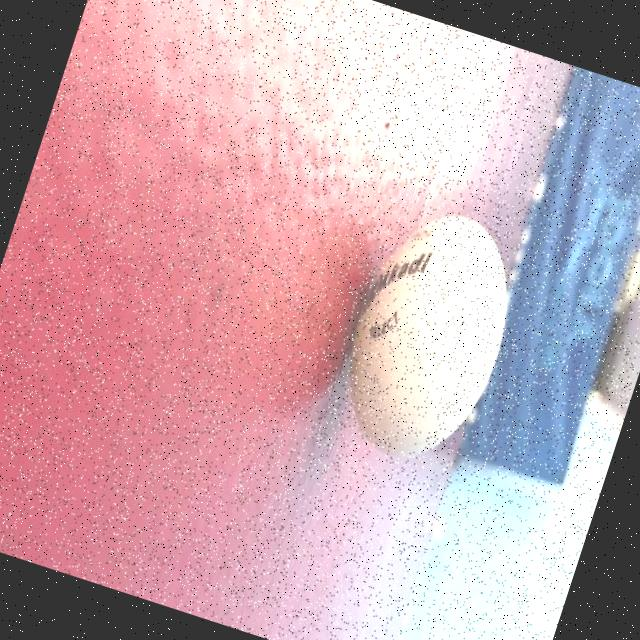ping-pong-ball: (312, 189, 542, 492)
